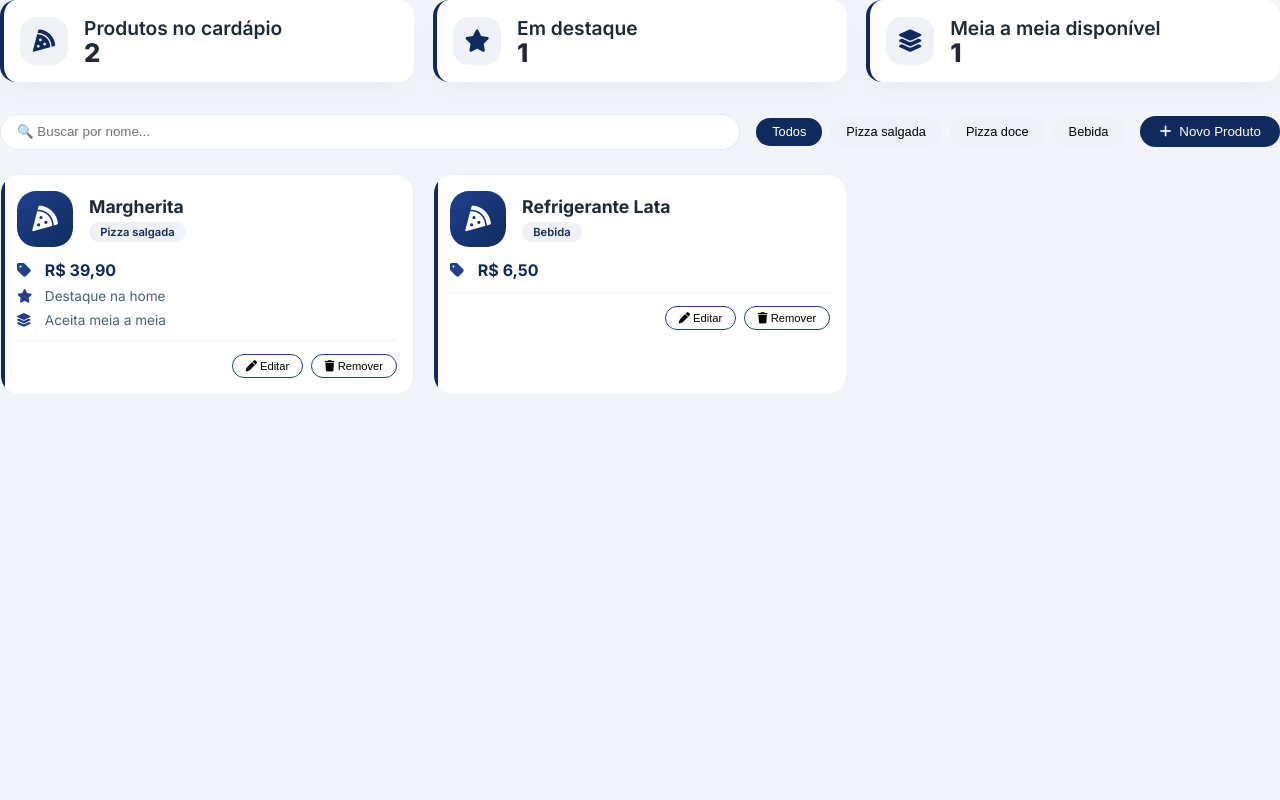
Scenario: ProductsSection (painel admin — cardápio) › editar produto: pré-preenche o formulário e salva com update()
This screenshot has width=1280, height=800.
Expected: the heading "Margherita" is shown, 89,196 -> 186,217
Click the button "Editar" below "Aceita meia a meia".
click(267, 366)  # box 232,354 -> 303,378
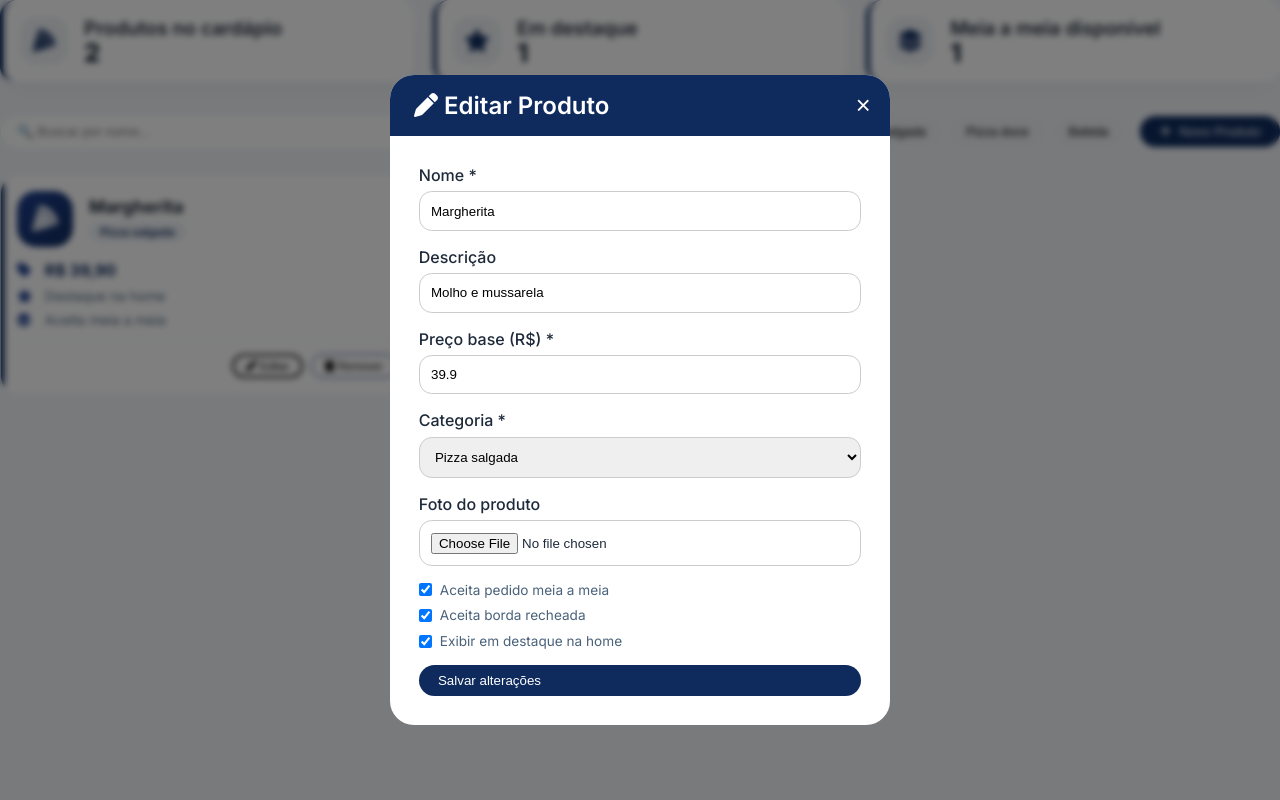
Expected: the field labelled "Nome *" holds "Margherita", 419,191 -> 861,231
Replace the text in the number field labelled "Preço base (R$) *" with "45" at (640, 375), box 419,355 -> 861,394
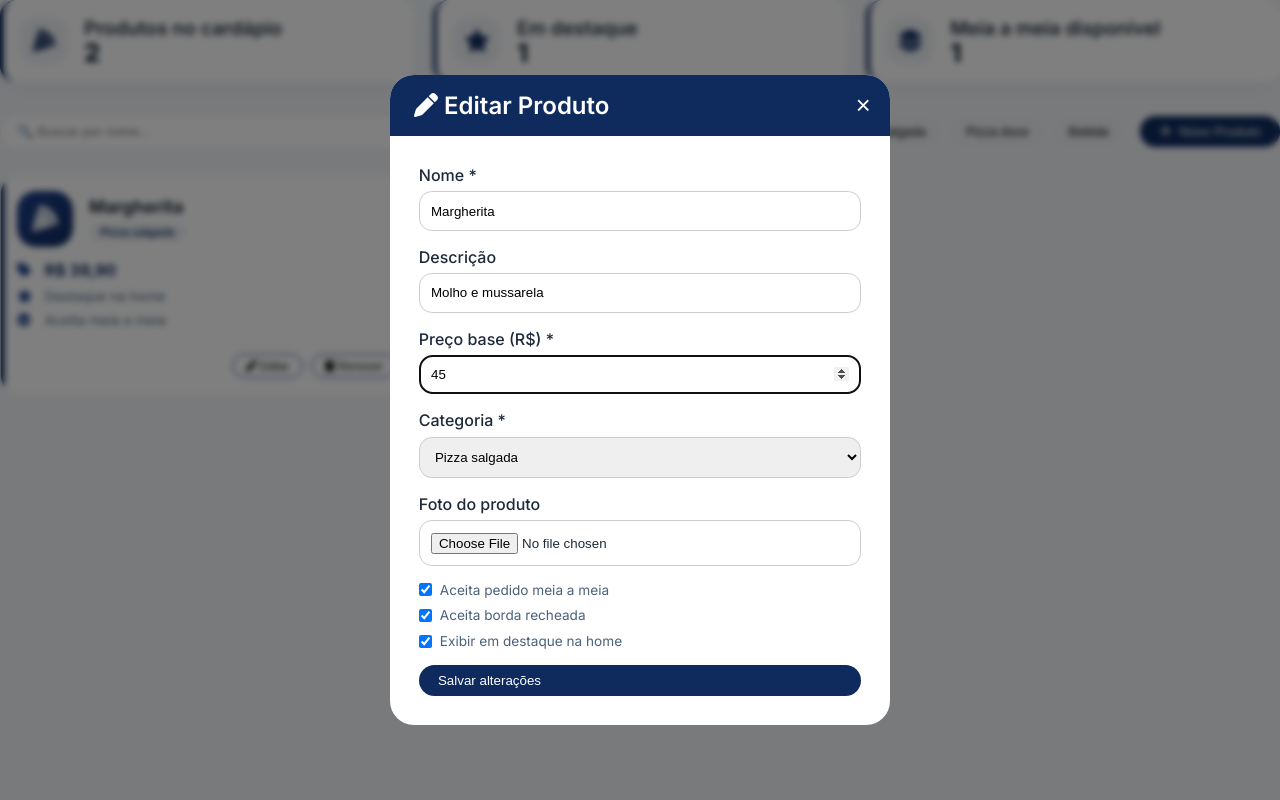
Click the button "Salvar alterações".
click(489, 680)  # box 419,665 -> 861,696
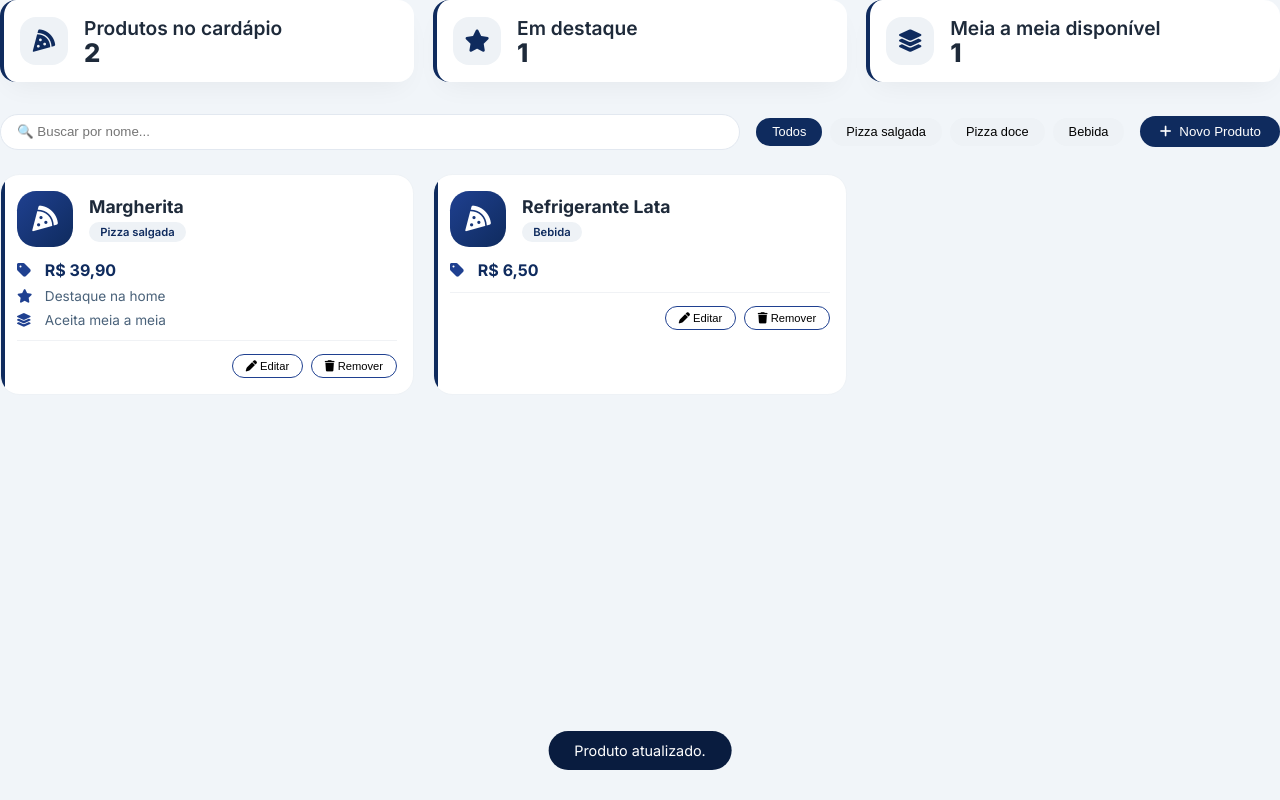
Expected: the text "Produto atualizado." is shown, 549,731 -> 731,770
